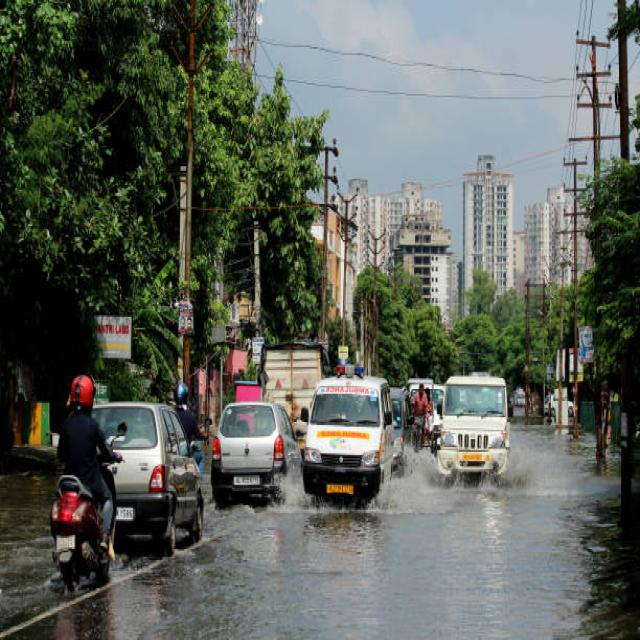ambulance: (301, 358, 388, 508), (321, 380, 376, 403)
